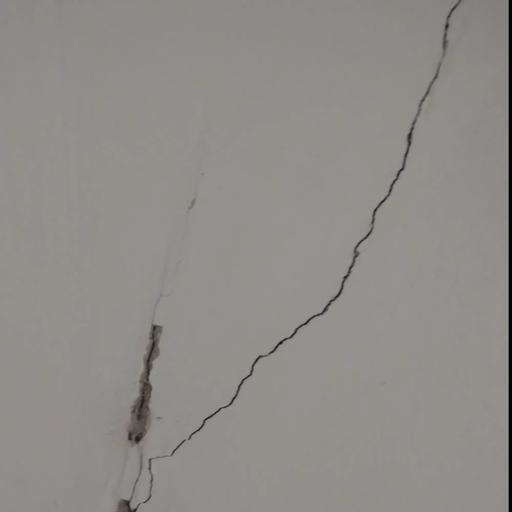major_crack: (117, 0, 478, 512)
